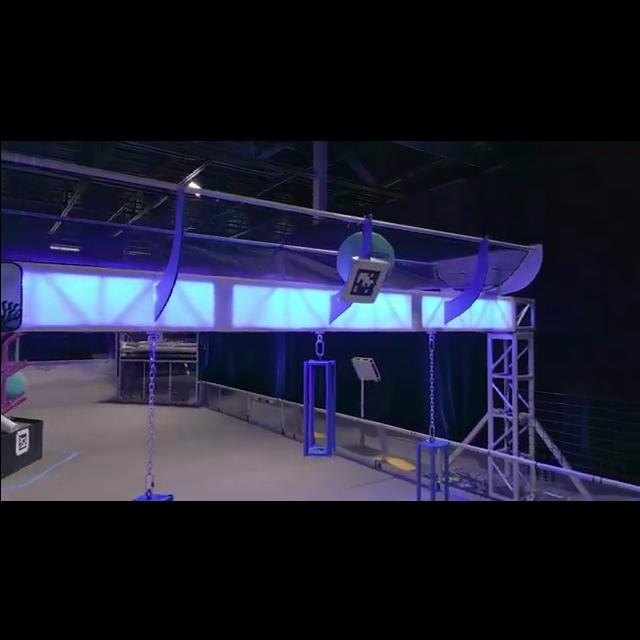ALGAE: (336, 230, 394, 286), (3, 369, 25, 398)
